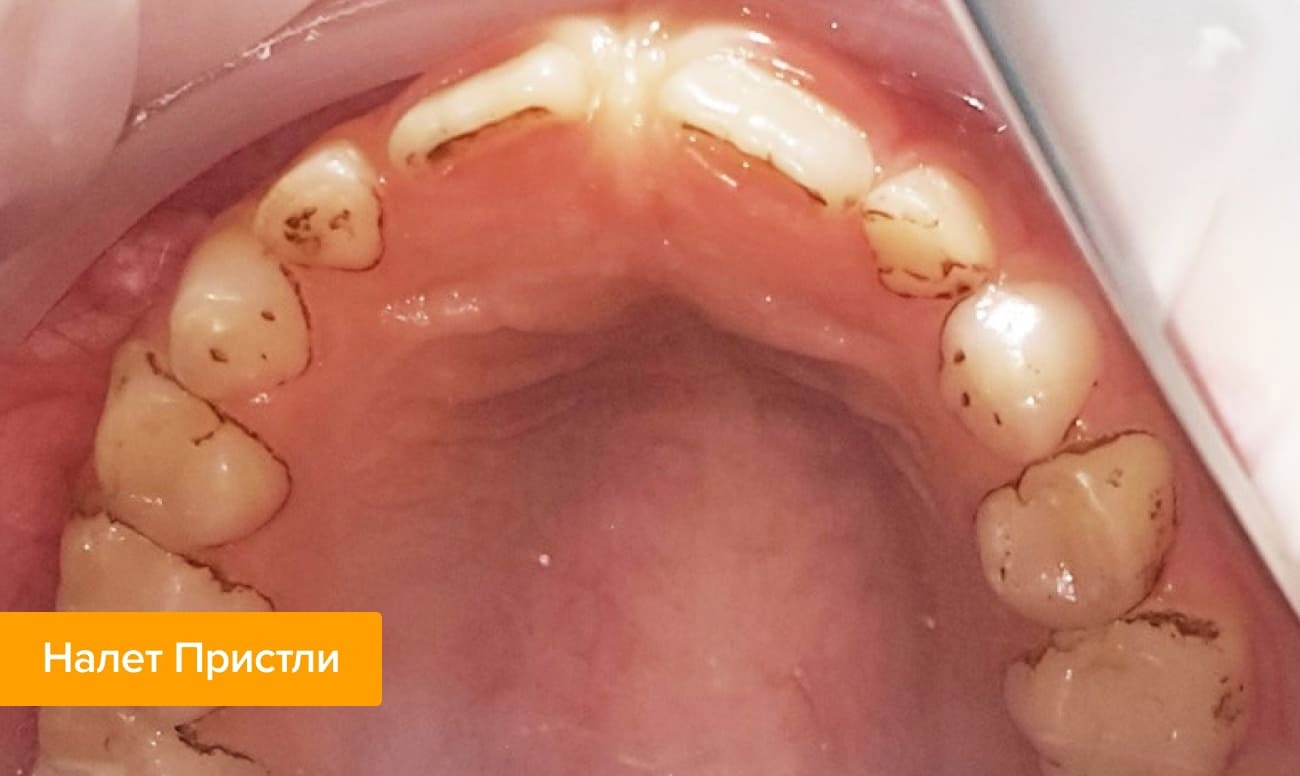UL1BC_decay: (968, 428, 1182, 626)
UL2BC_decay: (1000, 597, 1245, 773)
ULCI_decay: (662, 49, 867, 202)
ULC_decay: (937, 282, 1101, 466)
ULLI_decay: (864, 170, 993, 291)
UR1BC_decay: (99, 361, 299, 554)
URCI_decay: (400, 30, 618, 169)
URC_decay: (166, 238, 332, 397)
URLI_decay: (263, 150, 398, 281)
